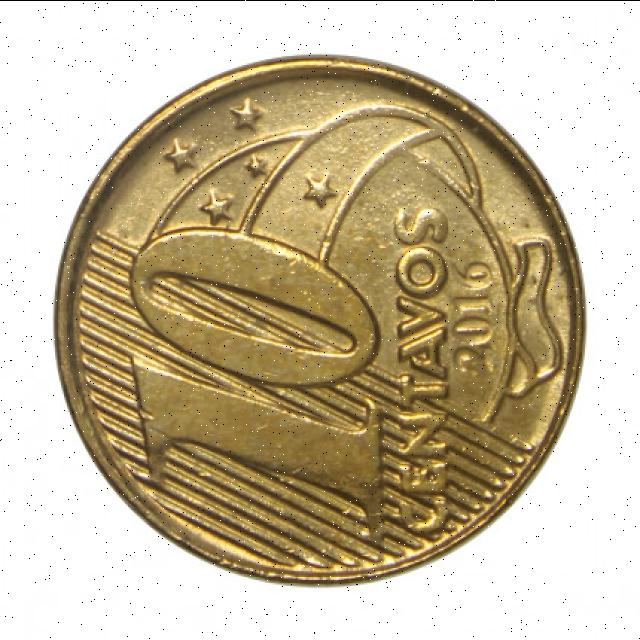10 cent: (62, 74, 570, 564)
